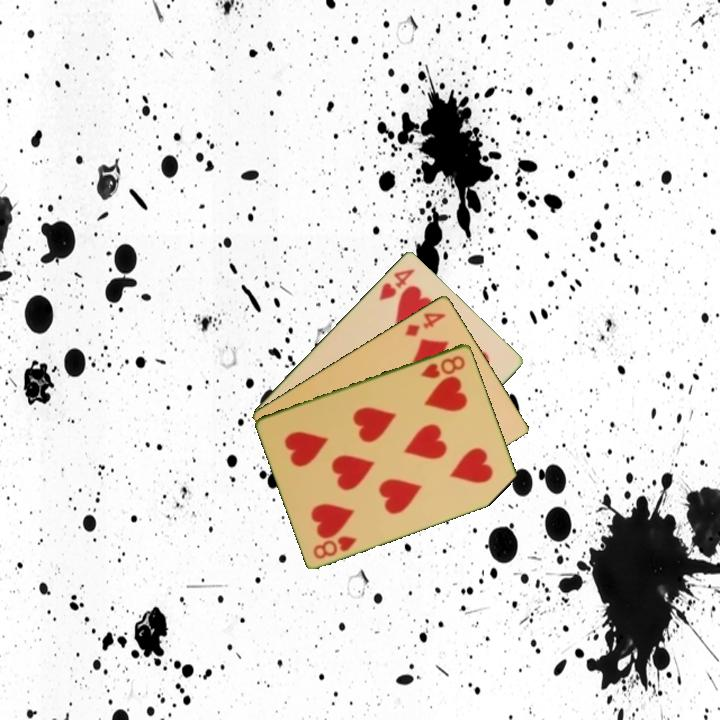4d: (401, 309, 449, 339)
4h: (375, 265, 418, 303)
8h: (310, 532, 360, 562), (417, 352, 468, 381)
